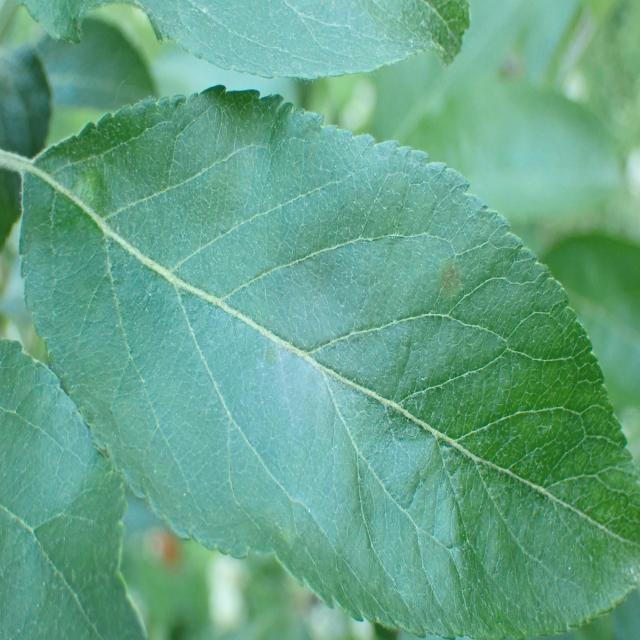scab: (154, 205, 576, 558)
